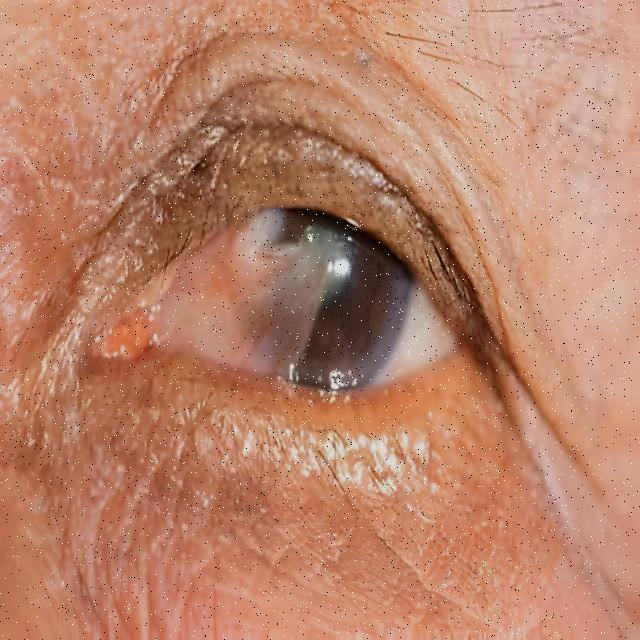Pterygium: (126, 212, 352, 394)
